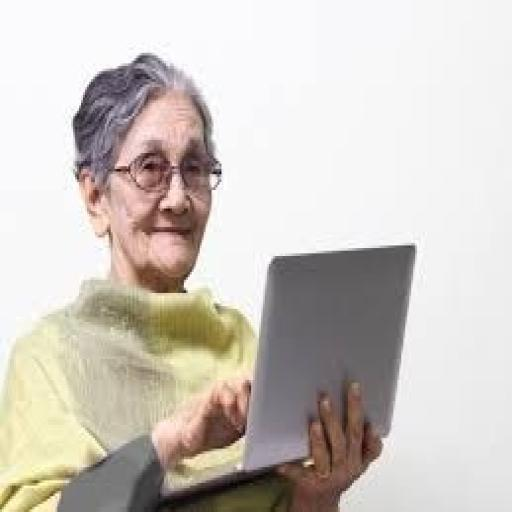using_laptop: (154, 238, 417, 504)
